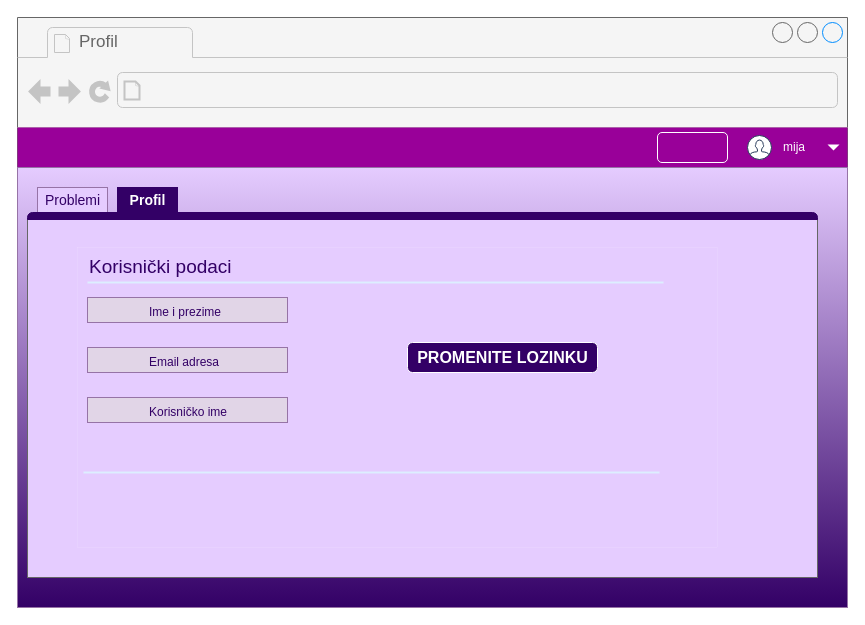
Image size: 865x625. Some labels were removed from this diagram. The shapes that lost their labels are listed below. From the top down, each one's centre as x and y in pixels, then its label:
(272,90): https://www.draw.io
(692,147): Započni
